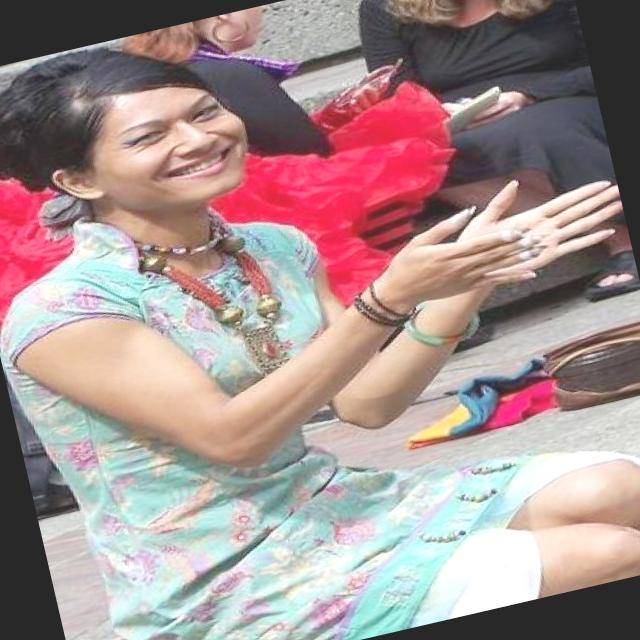no_vest: (0, 151, 479, 640)
